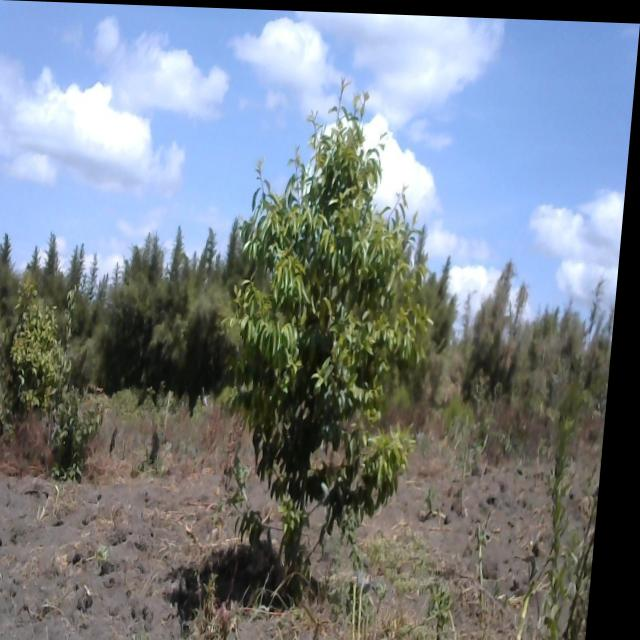Hass Avocado: (225, 105, 460, 572), (10, 286, 109, 480)
